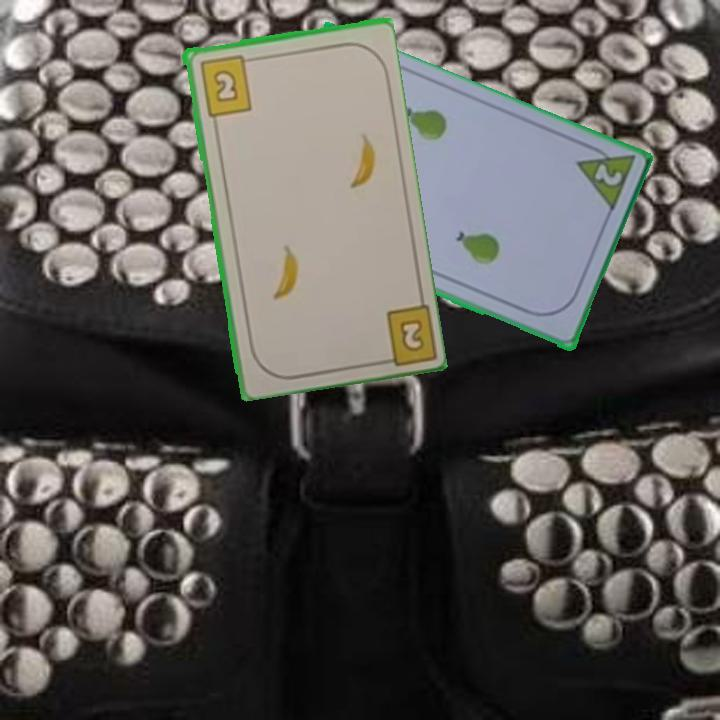2b: (372, 298, 437, 367), (195, 51, 257, 119)
2p: (571, 138, 638, 217)
